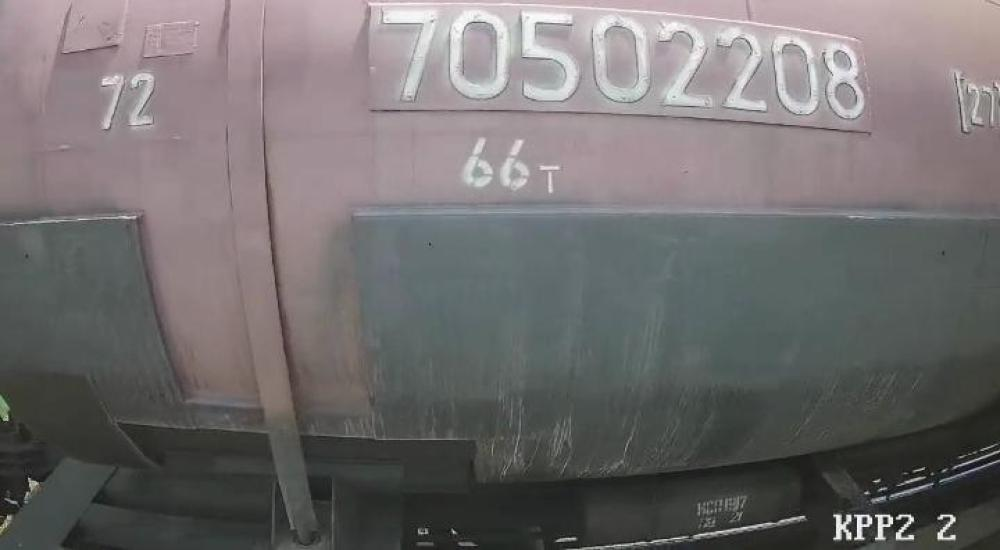Wagon-number: (374, 5, 869, 125)
